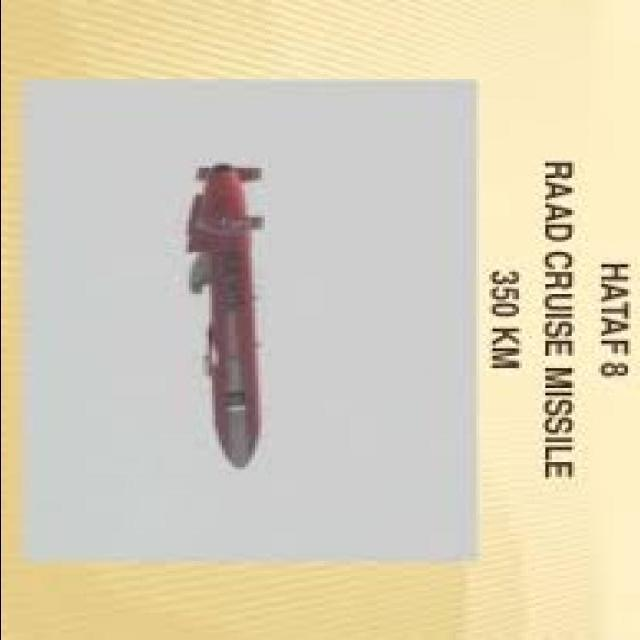missile: (180, 154, 275, 470)
